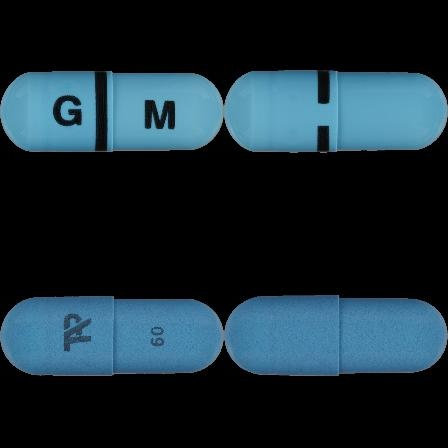54868-6150: (0, 0, 224, 224)
